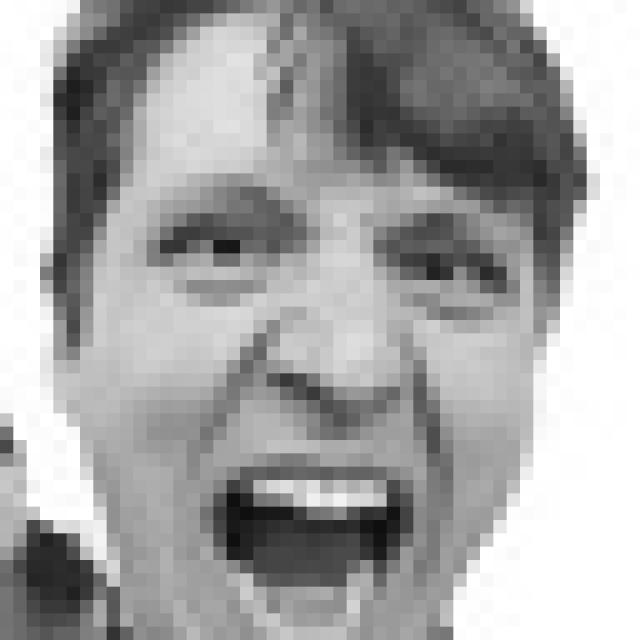angry: (139, 166, 526, 640)
